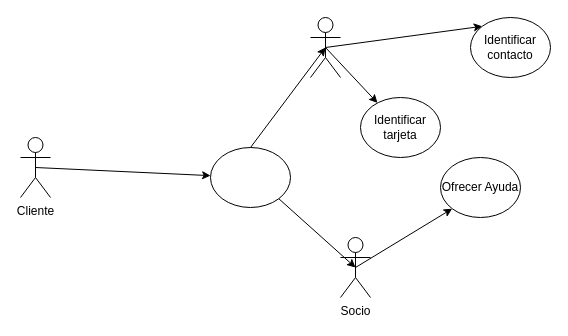
Some shapes in this 568 by 336 pixel diagram are drawn without their labels. The centre of each missing label's shape, as x and y in pixels:
"Lector NFC" belongs at point 325,47.
"Pagar con Tarjeta de Credito" belongs at point 250,177.
